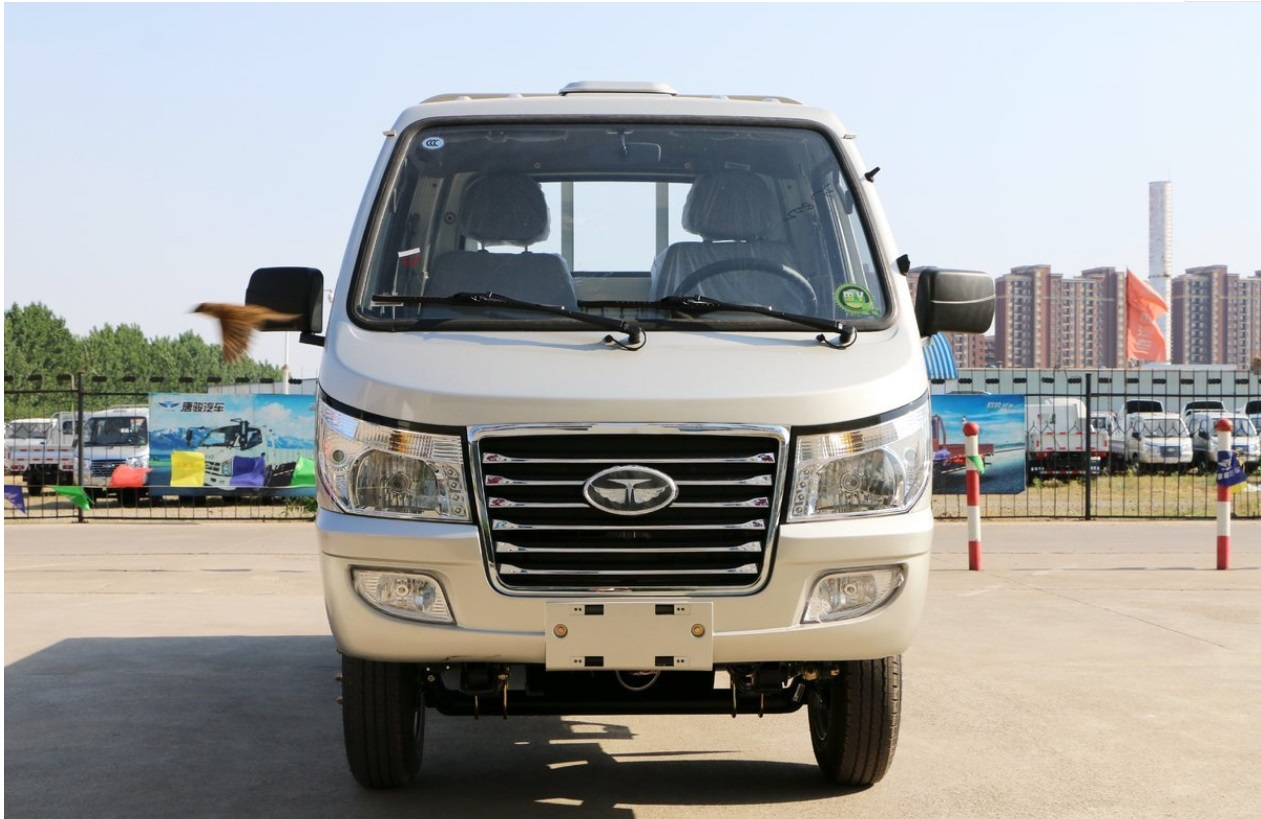truck: (241, 78, 1000, 799)
